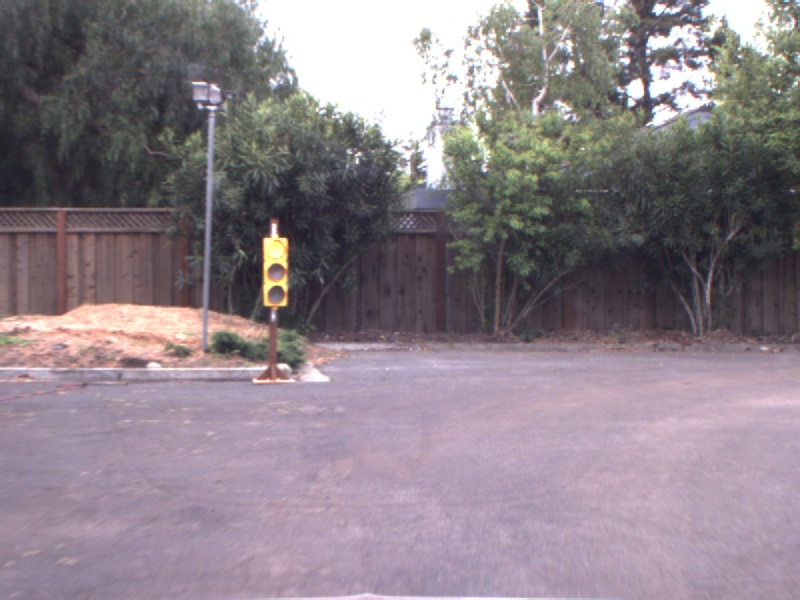red: (258, 232, 295, 310)
